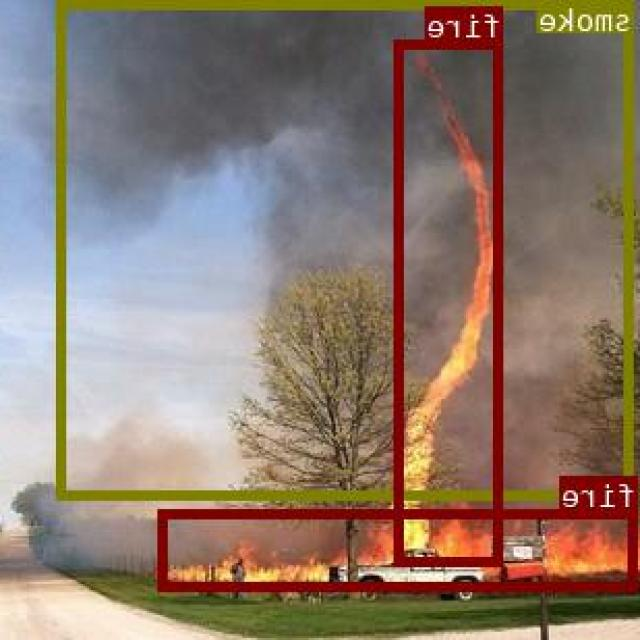fire: (396, 38, 504, 565), (161, 508, 639, 589)
smoke: (59, 0, 635, 499)
